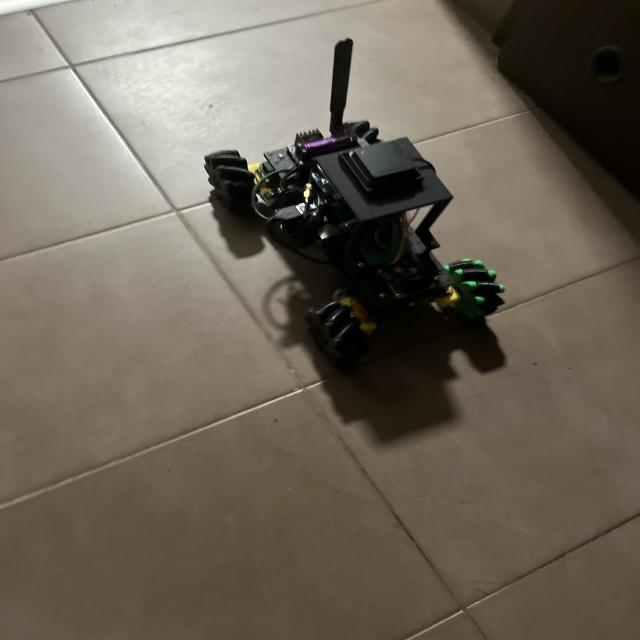robot: (204, 39, 504, 364)
